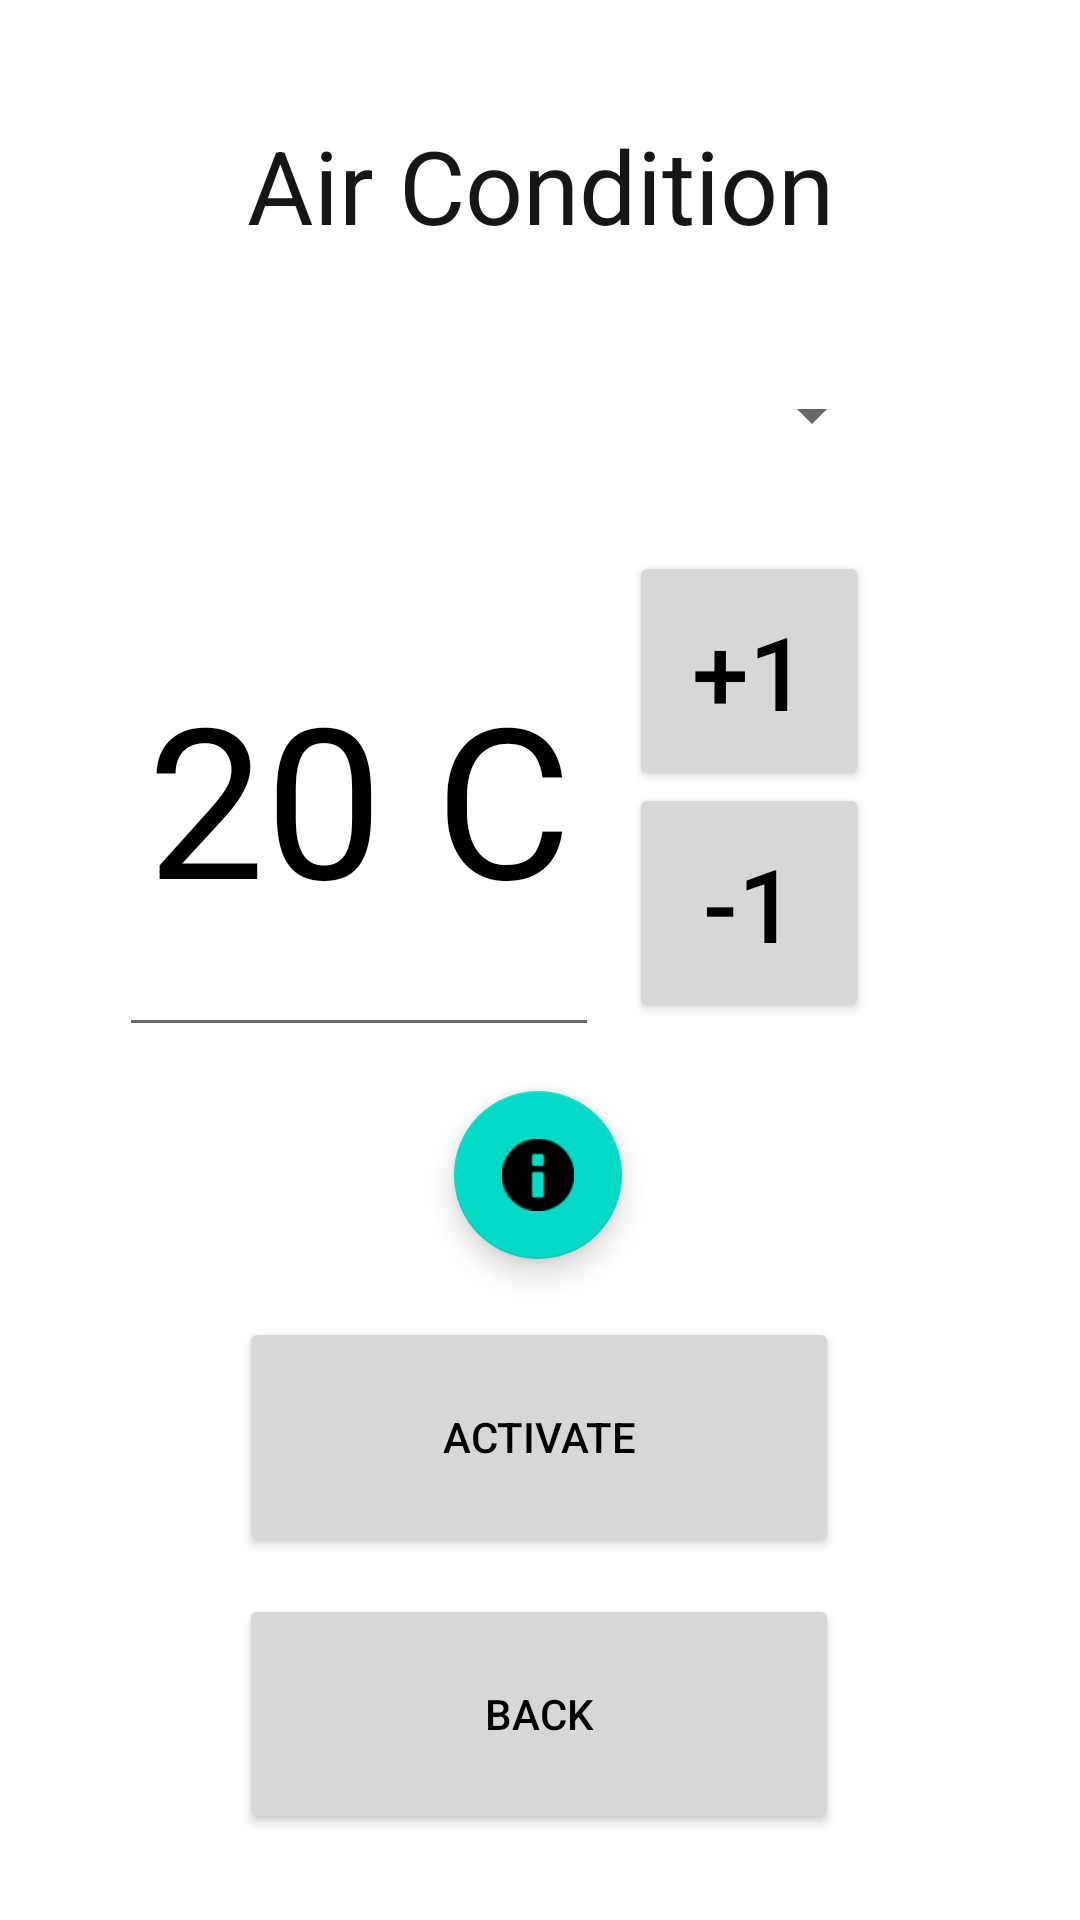

Locate icon controls on the screen. Image size 1080x1920, boxes as Rect(x1, y1, x2, y2).
info: Rect(454, 1091, 622, 1259)
